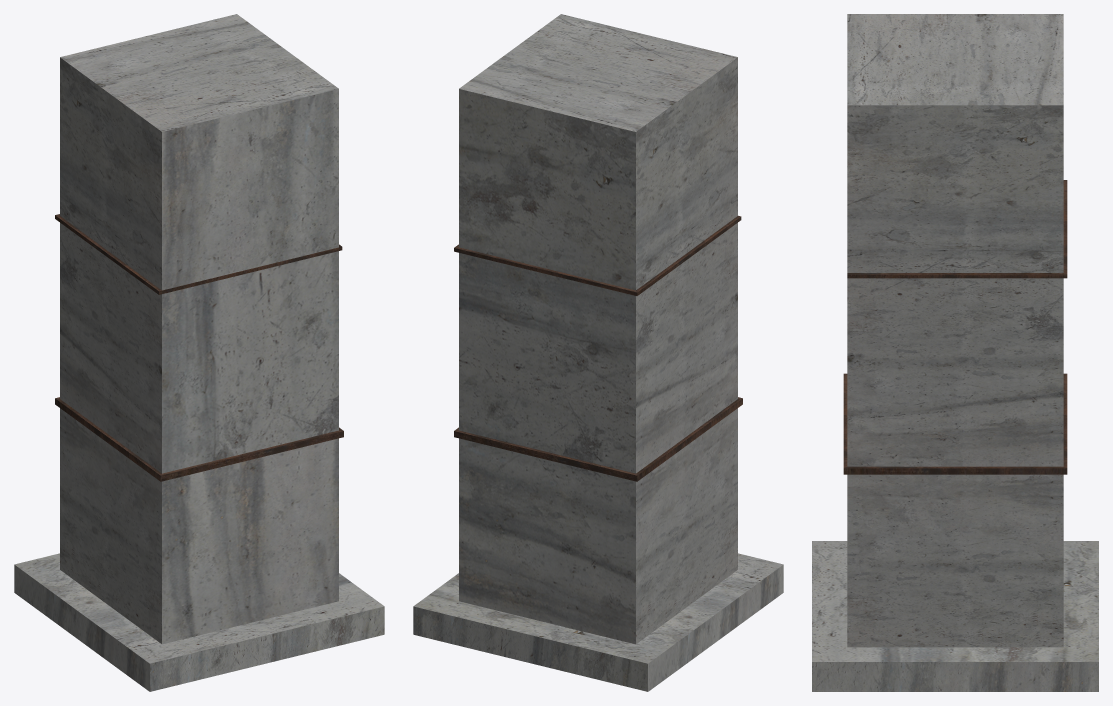
The model's file is Roof_S03.fbx.
3 renders of one model, left to right at view 1: azimuth 30°, elevation 25°; view 2: azimuth 150°, elevation 25°; view 3: azimuth 270°, elevation 25°, orthographic. The views are drawn at different scales.
Parts seen in each view (by area): view 1: Rf_01 (2); view 2: Rf_01 (2); view 3: Rf_01 (2).
Boxes of the visible parts, x1,y1,x2,y2 form: Rf_01 (2): (14,14,384,691); Rf_01 (2): (413,14,783,691); Rf_01 (2): (812,14,1098,691).
Size of the model in its own units: 100 by 220 by 100.
